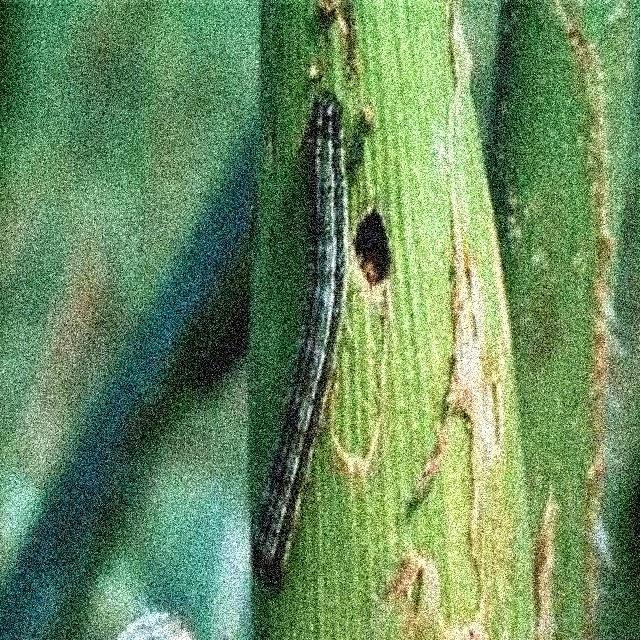gusano_cogollero: (244, 85, 353, 589)
